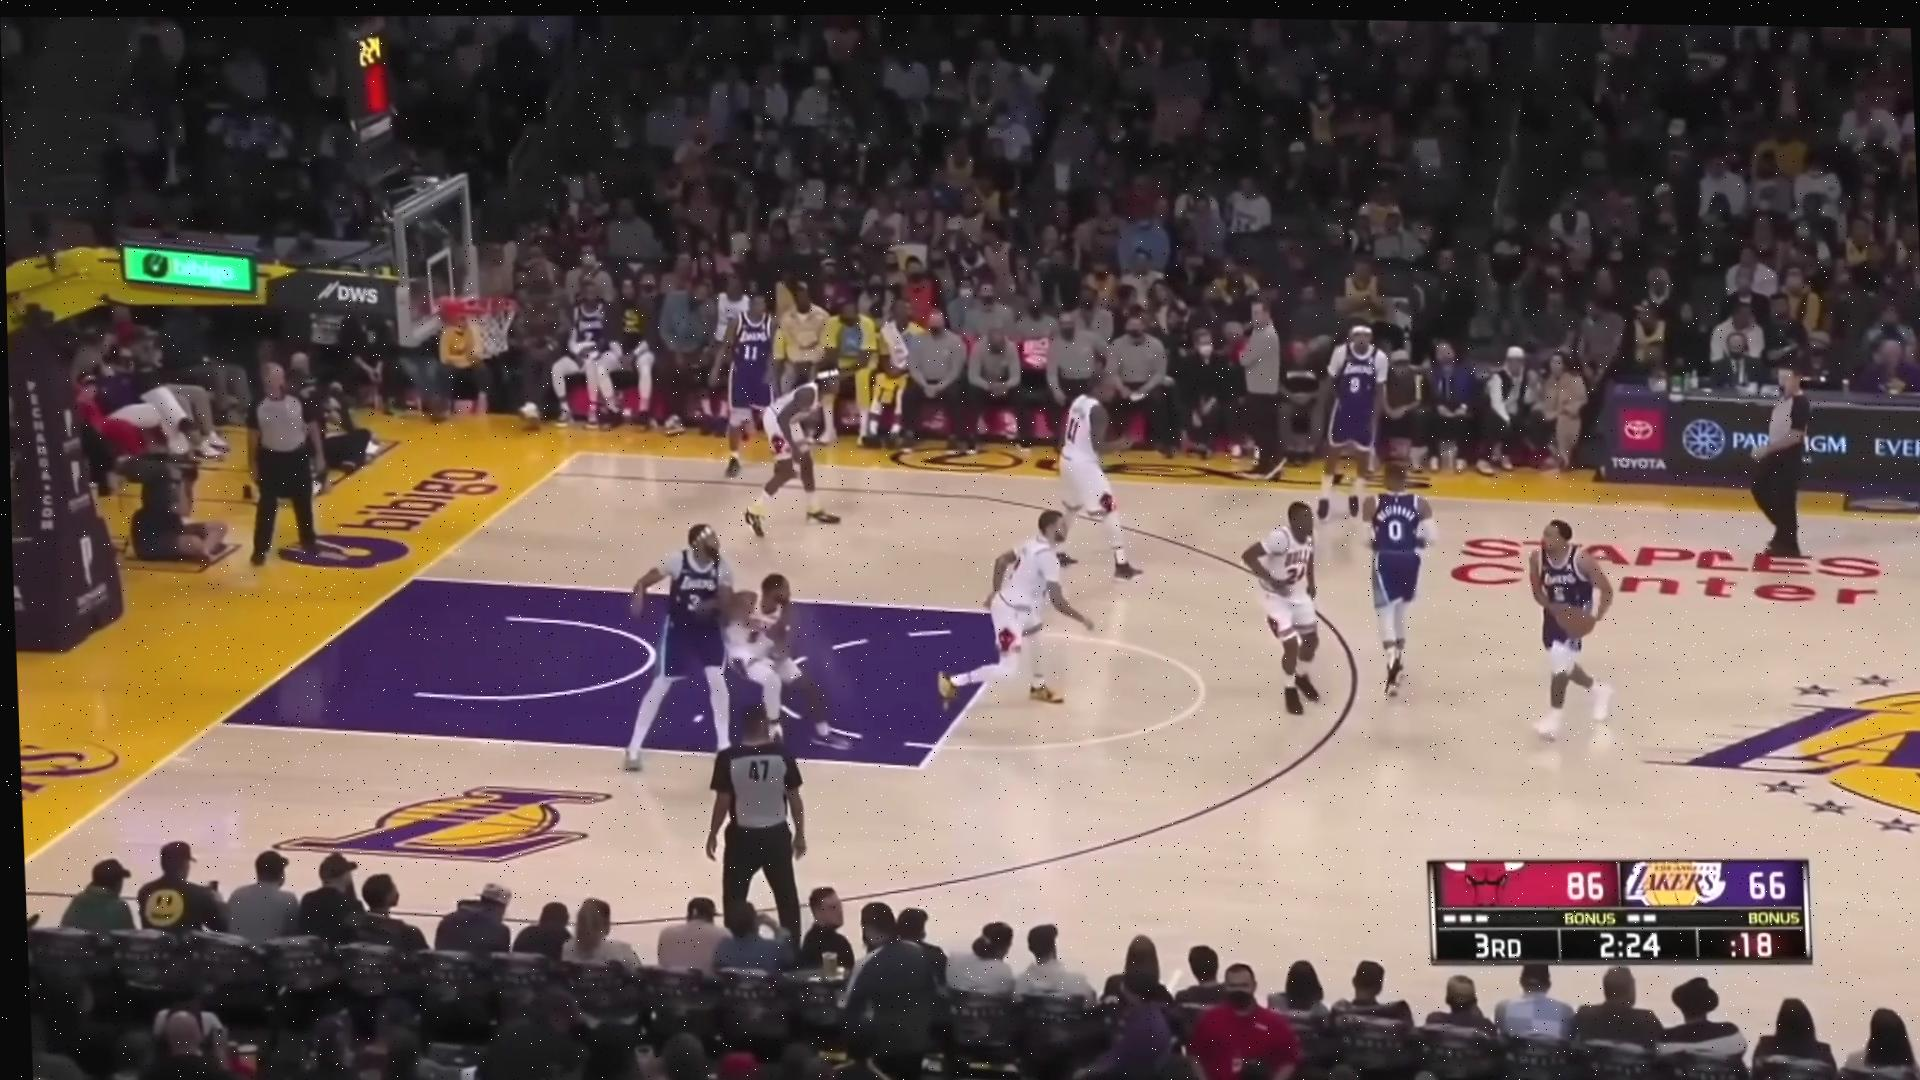foul: (615, 498, 848, 753)
